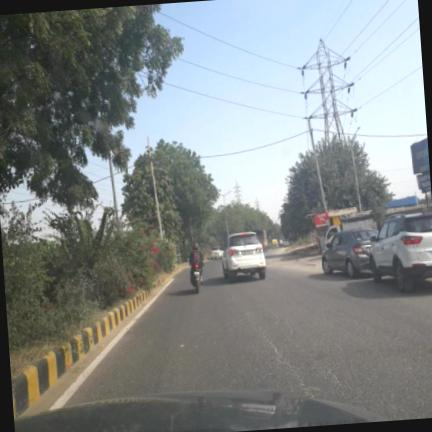Road: (68, 252, 431, 419)
